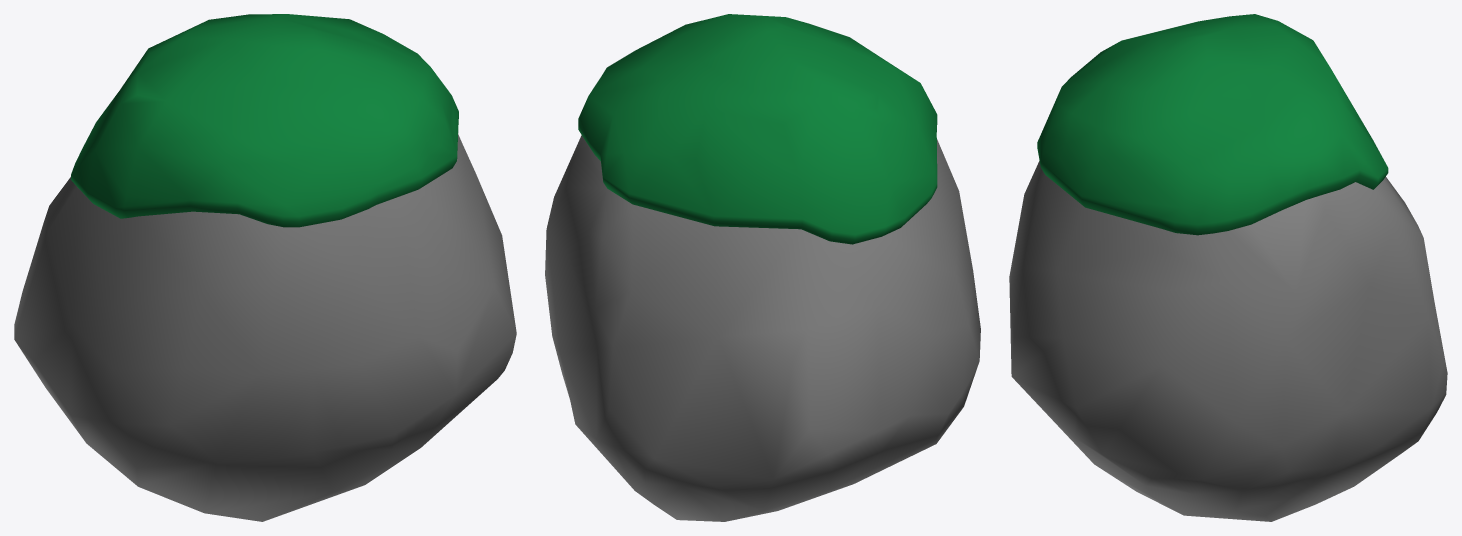
File: Stone4.fbx
The picture shows the model from 3 angles, left to right: view 1: azimuth 30°, elevation 25°; view 2: azimuth 150°, elevation 25°; view 3: azimuth 270°, elevation 25°; orthographic projection. The views are drawn at different scales.
Parts seen in each view (by area): view 1: 4stone, 4moss; view 2: 4stone, 4moss; view 3: 4stone, 4moss.
Boxes of the visible parts, x1=… form: 4stone: x1=14, y1=134, x2=516, y2=521; 4moss: x1=71, y1=14, x2=458, y2=227; 4stone: x1=545, y1=135, x2=980, y2=521; 4moss: x1=578, y1=14, x2=937, y2=244; 4stone: x1=1009, y1=161, x2=1447, y2=521; 4moss: x1=1037, y1=14, x2=1388, y2=235.
Bounding box in the file's own units: 146 × 162 × 138.
